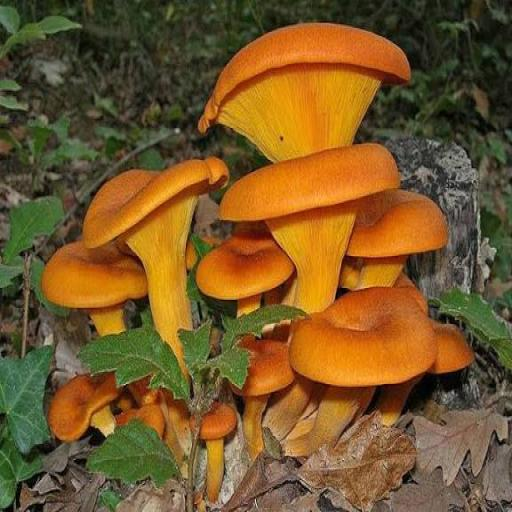Jack O Lantern Mushroom: (220, 139, 400, 321), (276, 281, 443, 472), (77, 157, 230, 352), (198, 18, 410, 157), (42, 233, 161, 355), (383, 302, 471, 436), (342, 179, 443, 294), (219, 331, 292, 470), (43, 371, 119, 448), (182, 408, 244, 497)
